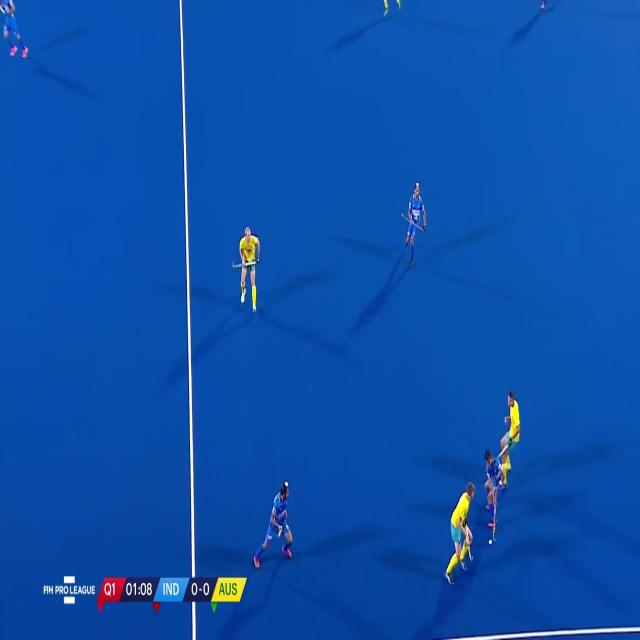ball: (486, 532, 495, 549)
